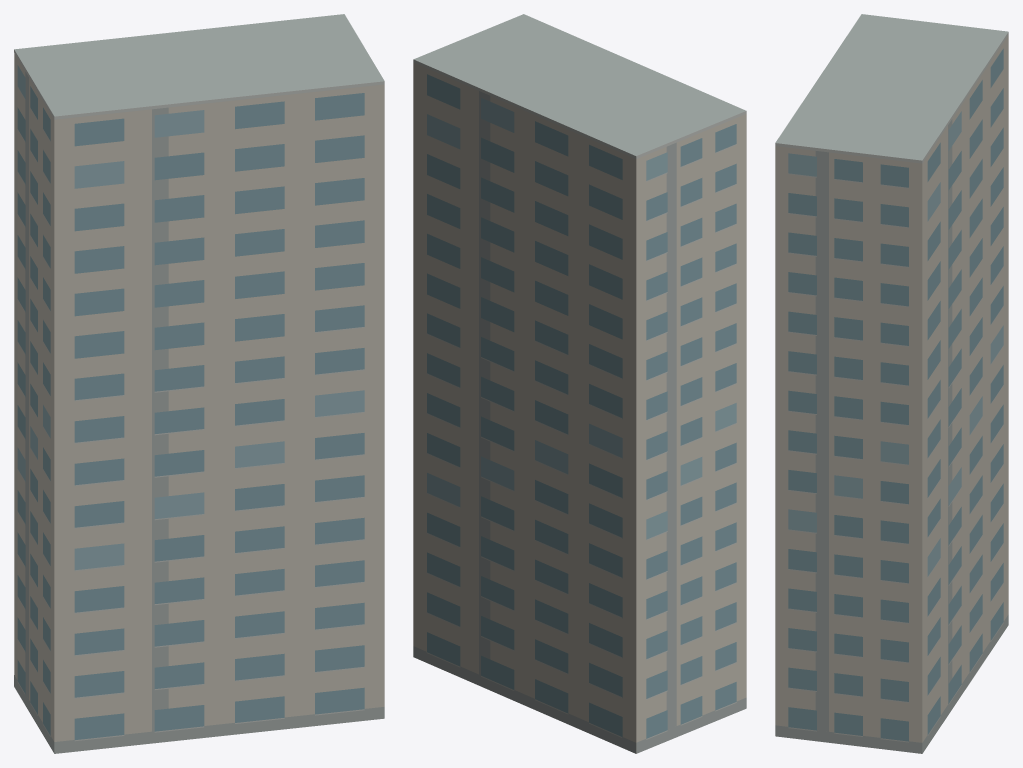
The model's file is residential-d836aa12-45c5-4169-b28a-24fdddaa4438.glb.
3 views of the same model, side by side, from view 1: azimuth 30°, elevation 25°; view 2: azimuth 150°, elevation 25°; view 3: azimuth 270°, elevation 25° (orthographic). The views are drawn at different scales.
Visible parts, largest first — view 1: residential-d836aa12-45c5-4169-b28a-24fdddaa4438.tmp; view 2: residential-d836aa12-45c5-4169-b28a-24fdddaa4438.tmp; view 3: residential-d836aa12-45c5-4169-b28a-24fdddaa4438.tmp.
Part boxes in pixels (x1,y1,x2,y2): residential-d836aa12-45c5-4169-b28a-24fdddaa4438.tmp: (14, 14, 384, 753); residential-d836aa12-45c5-4169-b28a-24fdddaa4438.tmp: (413, 14, 746, 753); residential-d836aa12-45c5-4169-b28a-24fdddaa4438.tmp: (775, 14, 1008, 753).
Bounding box in the file's own units: 25.97 × 49 × 17.49.
